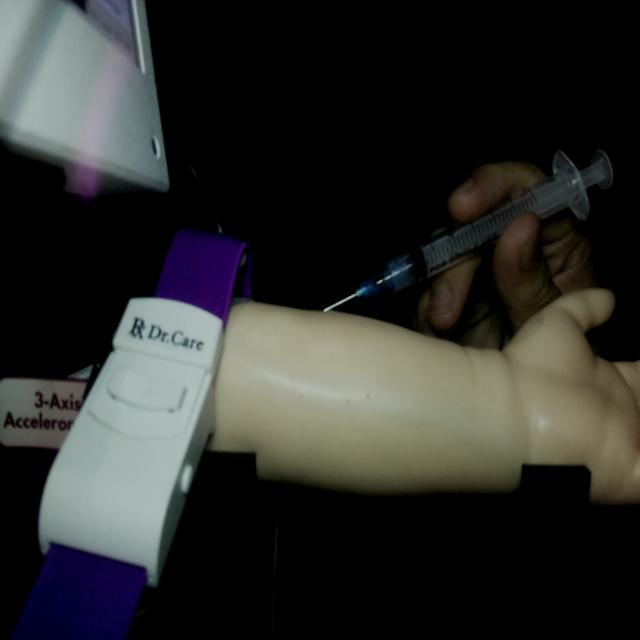18 degrees: (321, 143, 615, 315)
